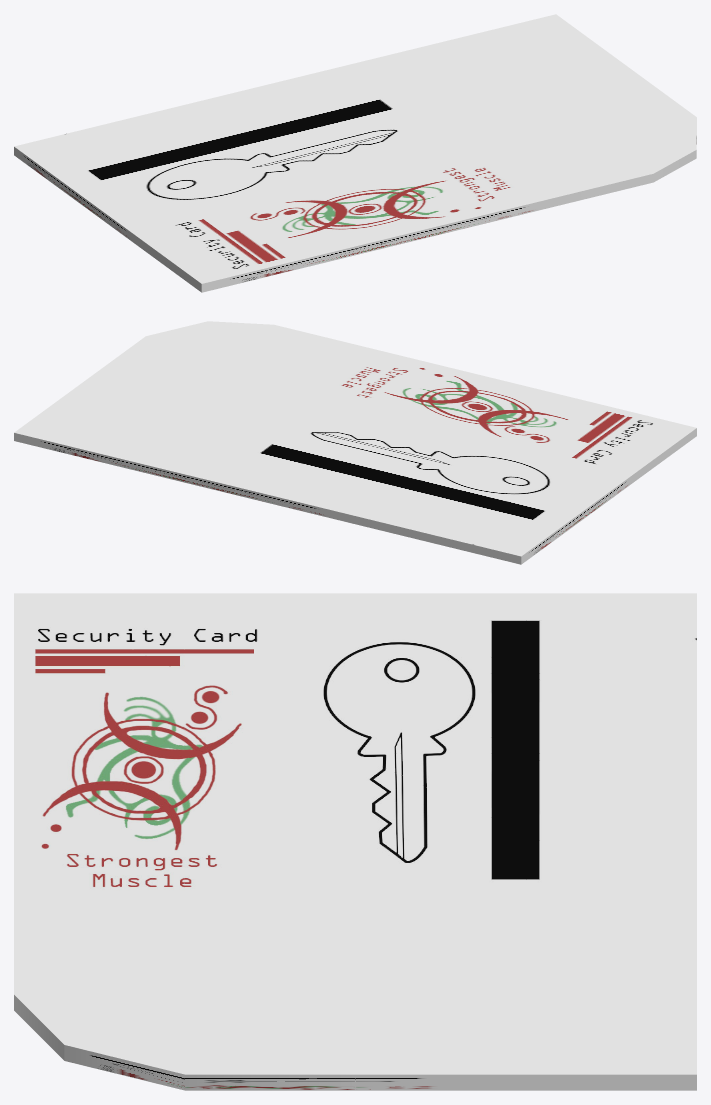
File: SecurityCard.FBX
3 renders of one model, top to bottom at view 1: azimuth 30°, elevation 25°; view 2: azimuth 150°, elevation 25°; view 3: azimuth 270°, elevation 25°, orthographic. The views are drawn at different scales.
Parts seen in each view (by area): view 1: Box001; view 2: Box001; view 3: Box001.
Boxes of the visible parts, left/top/right/bottom form: Box001: left=14, top=14, right=696, bottom=292; Box001: left=14, top=321, right=696, bottom=564; Box001: left=14, top=593, right=696, bottom=1090.
Bounding box in the file's own units: 30 × 0.4658 × 18.
